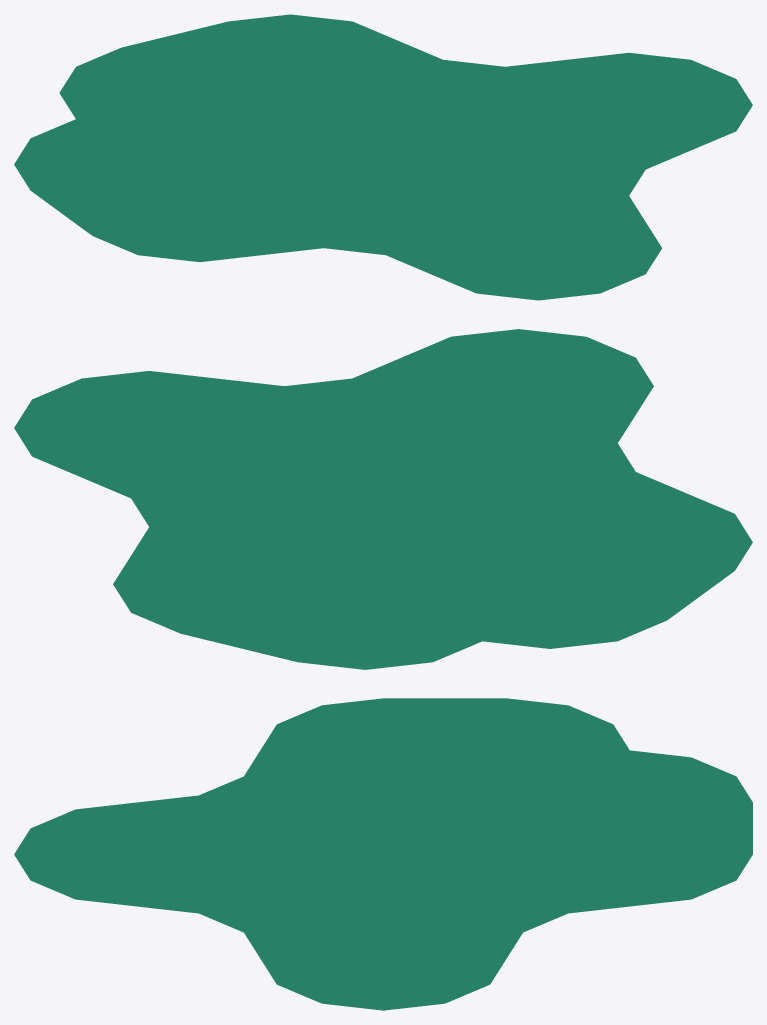
The model's file is kenney-survival-patch-grass.glb.
The picture shows the model from 3 angles, top to bottom: view 1: azimuth 30°, elevation 25°; view 2: azimuth 150°, elevation 25°; view 3: azimuth 270°, elevation 25°; orthographic projection. The views are drawn at different scales.
Parts seen in each view (by area): view 1: patch-grass; view 2: patch-grass; view 3: patch-grass.
Part boxes in pixels (x1=…): patch-grass: x1=14, y1=14, x2=752, y2=300; patch-grass: x1=14, y1=329, x2=752, y2=669; patch-grass: x1=14, y1=698, x2=752, y2=1010.
Bounding box in the file's own units: 1.2 × 0 × 1.2.
Materials: 1 (1 with a texture image).
